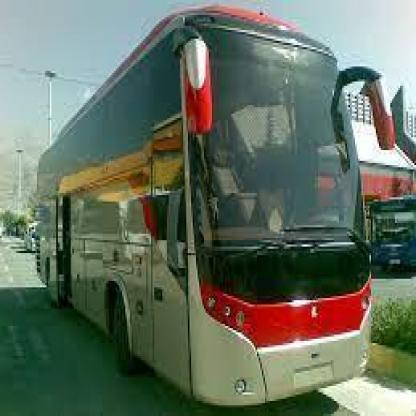Bus: (37, 0, 384, 405), (369, 187, 416, 268)
